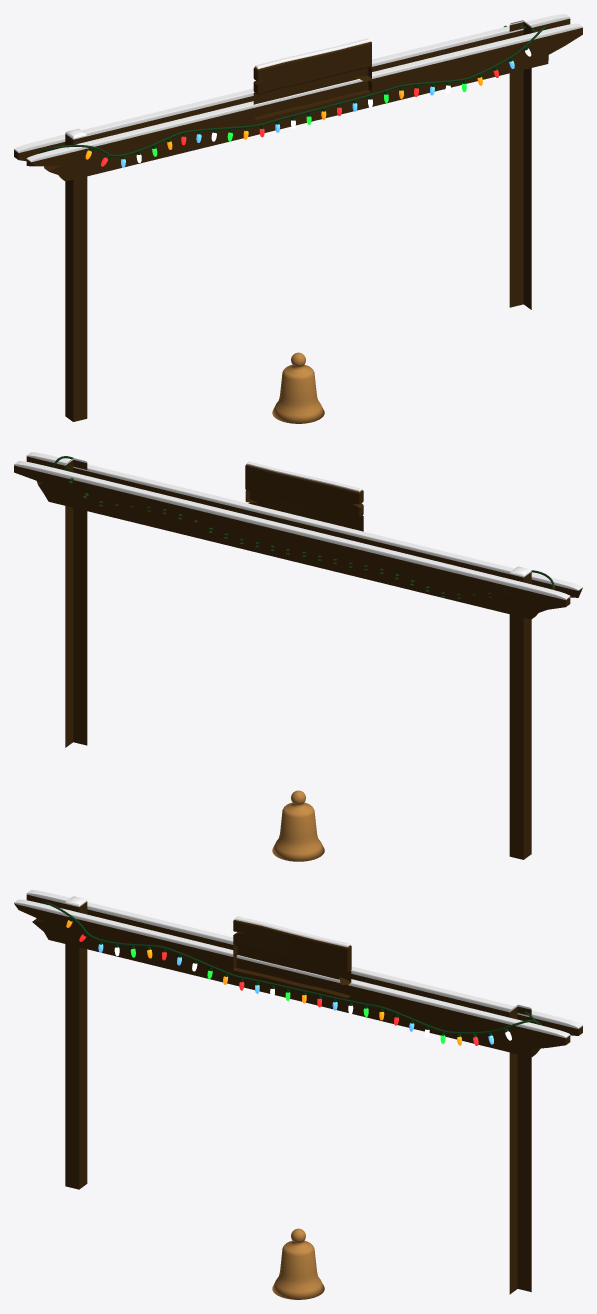
The model's file is holiday2021.glb.
3 renders of one model, top to bottom at view 1: azimuth 30°, elevation 25°; view 2: azimuth 150°, elevation 25°; view 3: azimuth 330°, elevation 25°, orthographic.
Visible parts, largest first — view 1: arbor, bell; view 2: arbor, bell; view 3: arbor, bell.
Part boxes in pixels (x1,y1,x2,y2): arbor: (14, 14, 582, 421); bell: (272, 352, 324, 423); arbor: (14, 452, 582, 859); bell: (272, 790, 324, 861); arbor: (14, 890, 582, 1294); bell: (272, 1228, 324, 1299).
Size of the model in its own units: 23.12 by 14.69 by 1.91.
Materials: 1 (1 with a texture image).
